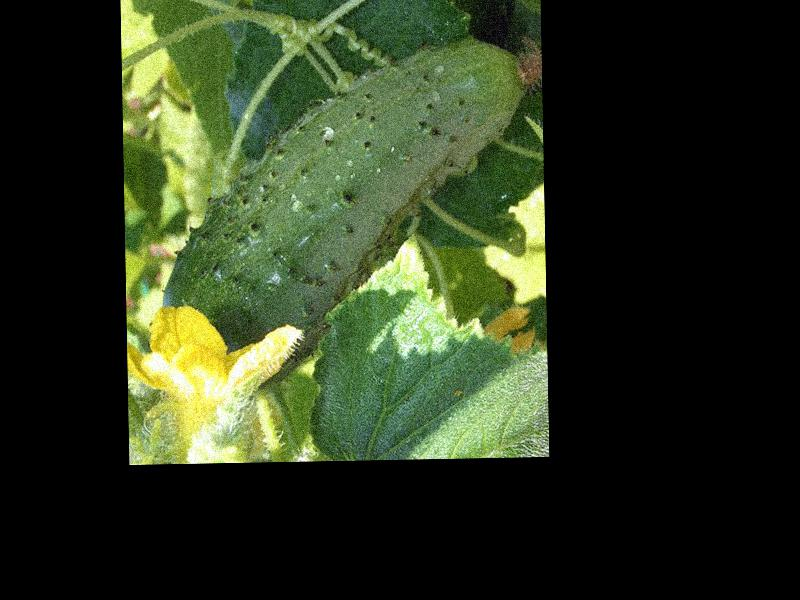Cucumber: (157, 36, 547, 393)
